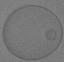small: (46, 29, 56, 41)
